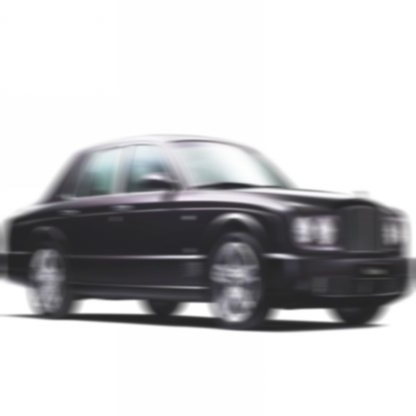Vehicle: (0, 138, 416, 332)
